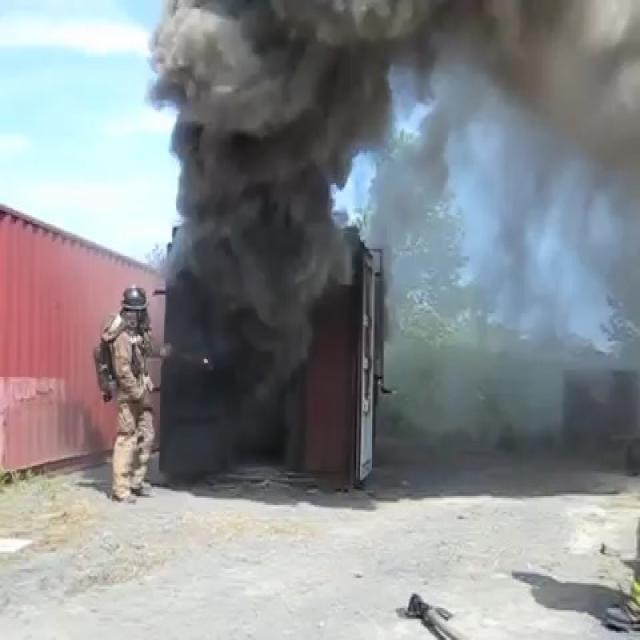Smoke: (171, 4, 344, 448)
